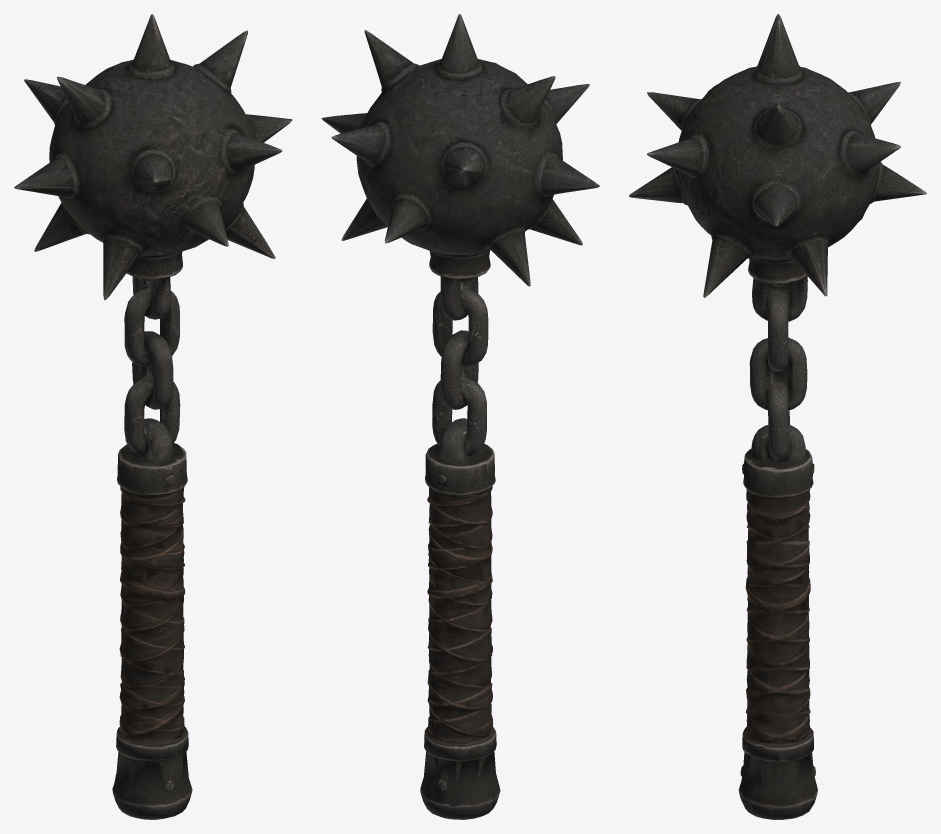
File: flail_2.glb
3 views of the same model, side by side, from view 1: azimuth 30°, elevation 25°; view 2: azimuth 150°, elevation 25°; view 3: azimuth 270°, elevation 25° (orthographic).
Parts seen in each view (by area): view 1: flail_2; view 2: flail_2; view 3: flail_2.
Part boxes in pixels (left/top/right/bottom): flail_2: left=14, top=14, right=292, bottom=819; flail_2: left=321, top=14, right=600, bottom=819; flail_2: left=629, top=14, right=926, bottom=819.
Size of the model in its own units: 0.3503 by 0.95 by 0.3262.
Materials: 1 (1 with a texture image).
